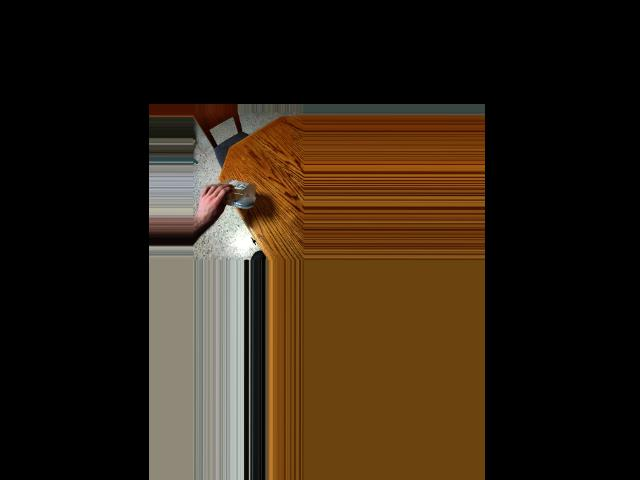cheese: (210, 178, 247, 211)
